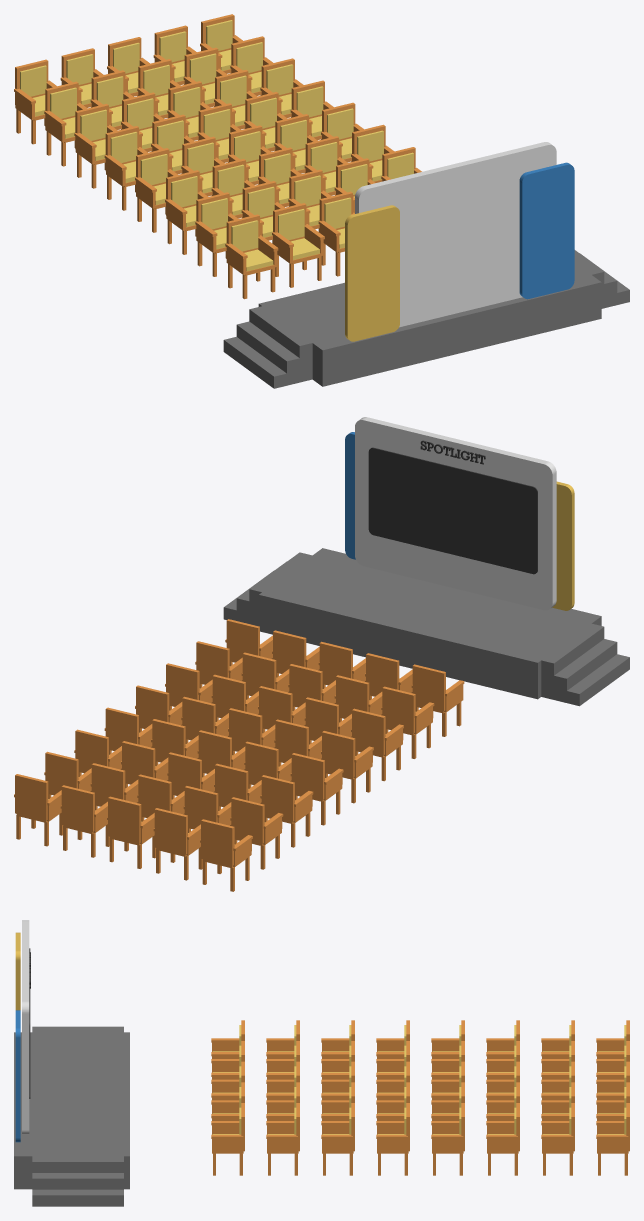
The model's file is Spotlight_Stage_Seating.glb.
3 renders of one model, top to bottom at view 1: azimuth 30°, elevation 25°; view 2: azimuth 150°, elevation 25°; view 3: azimuth 270°, elevation 25°, orthographic. The views are drawn at different scales.
Parts seen in each view (by area): view 1: Spotlight_Stage, Backdrop, Side_Panel_Blue, Side_Panel_Yellow, Seat_R1_C1, Seat_R1_C2, Seat_R2_C1, Seat_R6_C1, Seat_R7_C1, Seat_R3_C1, Seat_R8_C1, Seat_R5_C1 (+30 smaller); view 2: Spotlight_Stage, Backdrop, LED_Screen, Side_Panel_Yellow, Seat_R8_C1, Seat_R8_C2, Seat_R8_C4, Seat_R8_C5, Seat_R8_C3, Seat_R6_C1, Seat_R1_C1, Seat_R7_C1 (+33 smaller); view 3: Spotlight_Stage, Backdrop, Seat_R1_C5, Seat_R2_C5, Seat_R3_C5, Seat_R4_C5, Seat_R5_C5, Seat_R6_C5, Seat_R7_C5, Seat_R8_C5, Side_Panel_Blue, Seat_R1_C3 (+32 smaller).
Boxes of the visible parts, x1,y1,x2,y2 form: Spotlight_Stage: [223, 250, 629, 388]; Backdrop: [355, 142, 556, 327]; Side_Panel_Blue: [519, 162, 574, 299]; Side_Panel_Yellow: [345, 205, 399, 341]; Seat_R1_C1: [225, 214, 278, 299]; Seat_R1_C2: [272, 203, 324, 287]; Seat_R2_C1: [195, 192, 238, 276]; Seat_R6_C1: [74, 103, 117, 188]; Seat_R7_C1: [44, 81, 87, 166]; Seat_R3_C1: [165, 170, 207, 254]; Seat_R8_C1: [14, 59, 56, 144]; Seat_R5_C1: [104, 126, 147, 210]; Spotlight_Stage: [223, 548, 629, 706]; Backdrop: [355, 417, 556, 610]; LED_Screen: [368, 447, 537, 574]; Side_Panel_Yellow: [552, 481, 574, 610]; Seat_R8_C1: [200, 819, 252, 891]; Seat_R8_C2: [153, 808, 202, 880]; Seat_R8_C4: [60, 785, 109, 857]; Seat_R8_C5: [14, 774, 63, 846]; Seat_R8_C3: [107, 796, 156, 868]; Seat_R6_C1: [260, 775, 313, 847]; Seat_R1_C1: [411, 664, 464, 736]; Seat_R7_C1: [230, 797, 283, 869]; Spotlight_Stage: [14, 1026, 129, 1206]; Backdrop: [22, 920, 29, 1134]; Seat_R1_C5: [211, 1103, 244, 1175]; Seat_R2_C5: [266, 1103, 299, 1175]; Seat_R3_C5: [321, 1103, 354, 1175]; Seat_R4_C5: [376, 1103, 409, 1175]; Seat_R5_C5: [431, 1103, 464, 1175]; Seat_R6_C5: [486, 1103, 519, 1175]; Seat_R7_C5: [541, 1103, 574, 1175]; Seat_R8_C5: [596, 1103, 629, 1175]; Side_Panel_Blue: [15, 1010, 20, 1142]; Seat_R1_C3: [211, 1061, 244, 1100].
Size of the model in its own units: 6.12 by 3 by 10.08.
